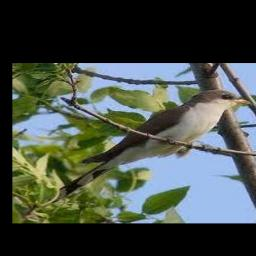Cuckoo: (45, 90, 252, 204)
